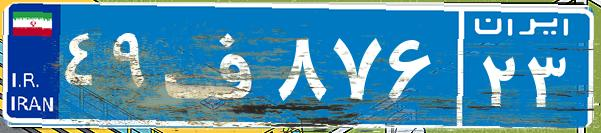2: (475, 38, 525, 113)
3: (525, 38, 570, 115)
4: (57, 26, 110, 107)
6: (385, 28, 445, 110)
7: (330, 28, 385, 110)
8: (273, 28, 330, 110)
9: (110, 28, 158, 105)
ف: (158, 15, 273, 115)
